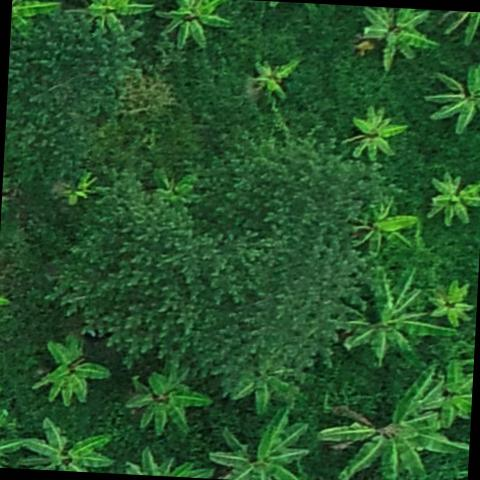Banana-plant: (313, 360, 473, 480), (340, 265, 450, 366), (211, 393, 311, 480), (27, 326, 114, 408), (126, 362, 209, 439), (20, 417, 112, 474), (416, 48, 480, 126), (359, 6, 438, 68), (340, 104, 406, 163), (420, 356, 474, 426), (353, 199, 416, 257), (155, 0, 230, 46), (421, 173, 480, 230), (427, 277, 478, 325), (150, 168, 205, 212), (80, 0, 151, 33), (248, 55, 300, 100), (56, 162, 99, 210)
